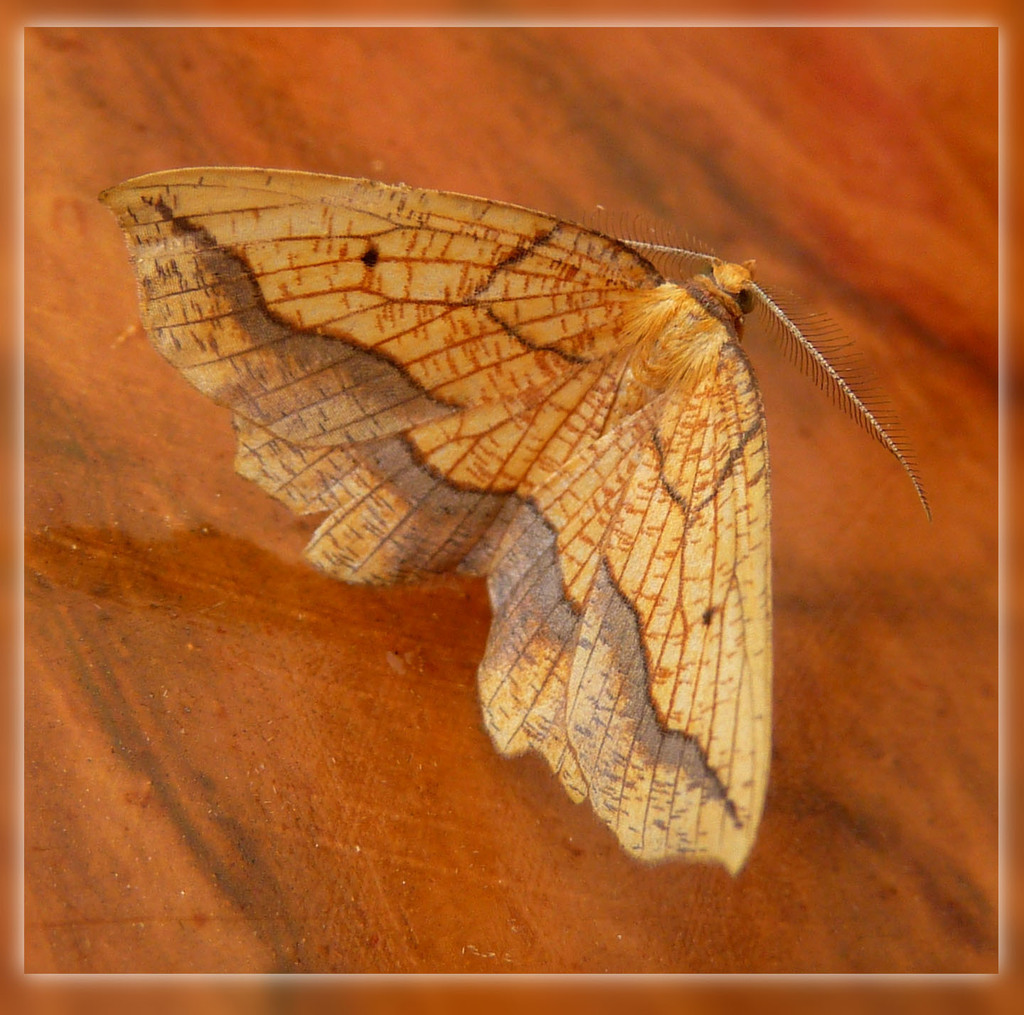Butterfly: (96, 153, 839, 887)
